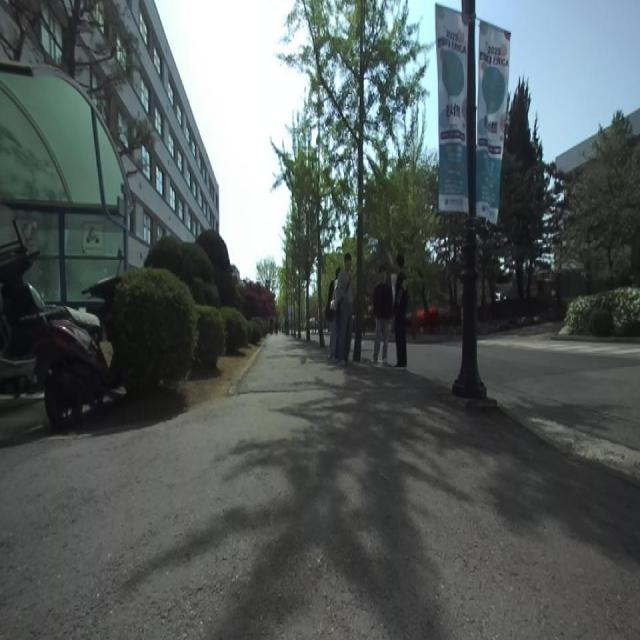sidewalk: (0, 336, 640, 639)
